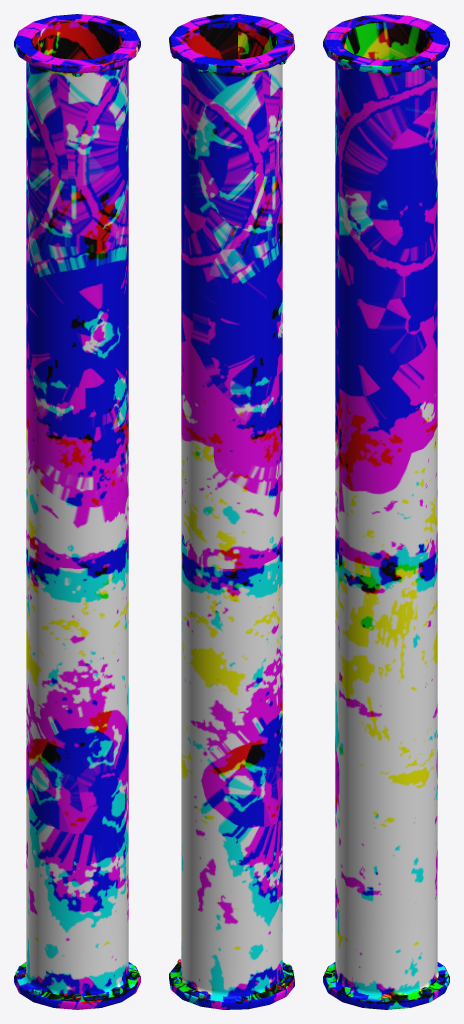
Rendered from sm_PipeStraight_01_03.fbx.
3 renders of one model, left to right at view 1: azimuth 90°, elevation 25°; view 2: azimuth 150°, elevation 25°; view 3: azimuth 270°, elevation 25°, orthographic.
Parts seen in each view (by area): view 1: sm_PipeStraight_01_03_LOD0; view 2: sm_PipeStraight_01_03_LOD0; view 3: sm_PipeStraight_01_03_LOD0.
Part boxes in pixels (box(x1,y1,x2,y2)): sm_PipeStraight_01_03_LOD0: box(14, 14, 140, 1009); sm_PipeStraight_01_03_LOD0: box(169, 14, 294, 1009); sm_PipeStraight_01_03_LOD0: box(323, 14, 449, 1009).
Size of the model in its own units: 29.76 by 29.76 by 244.
